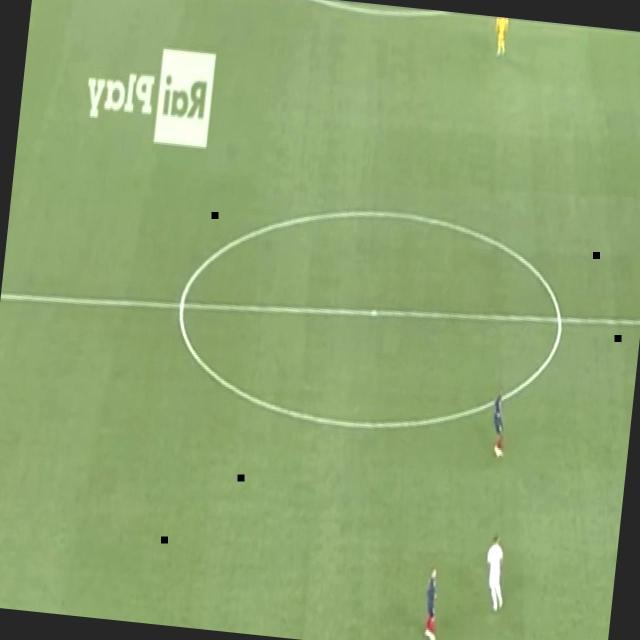player-white: (481, 530, 512, 618), (420, 564, 447, 640), (488, 384, 512, 461), (490, 16, 514, 61)
